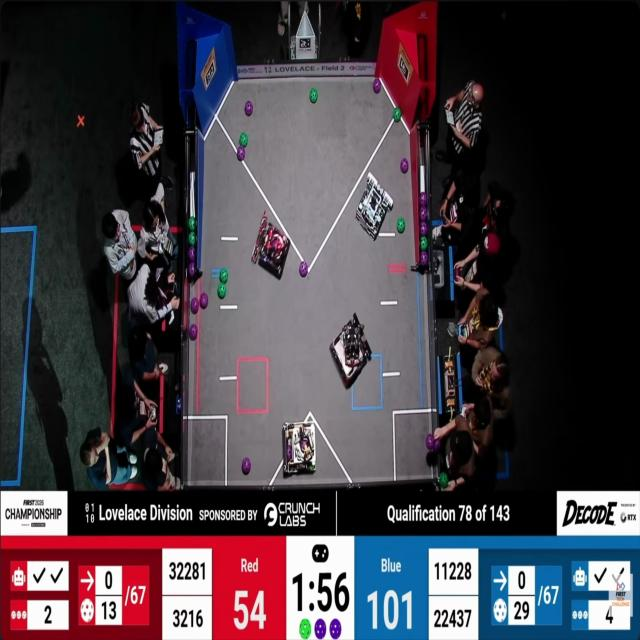artifact_green: (299, 619, 311, 639), (439, 472, 449, 488), (239, 132, 248, 147), (218, 283, 226, 299), (220, 268, 228, 284), (310, 88, 318, 104), (237, 146, 245, 161), (397, 218, 405, 233), (393, 107, 401, 122), (188, 217, 196, 231), (420, 237, 428, 250), (189, 232, 195, 245)
artifact_purple: (330, 619, 341, 639), (315, 619, 326, 639), (425, 433, 436, 451), (241, 458, 251, 475), (190, 297, 199, 314), (299, 261, 308, 277), (373, 78, 382, 94), (400, 158, 409, 173), (200, 293, 208, 309), (188, 263, 196, 279), (245, 101, 253, 116), (190, 324, 197, 340), (237, 147, 245, 161), (188, 247, 195, 263), (420, 222, 428, 236), (420, 207, 427, 221), (433, 440, 441, 452), (300, 440, 308, 452), (421, 252, 428, 265), (420, 193, 427, 206), (287, 445, 292, 460)
